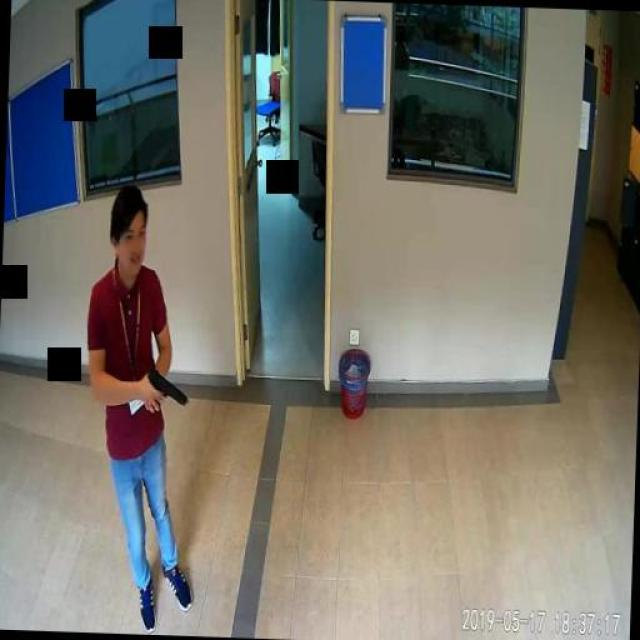gun: (144, 362, 188, 408)
